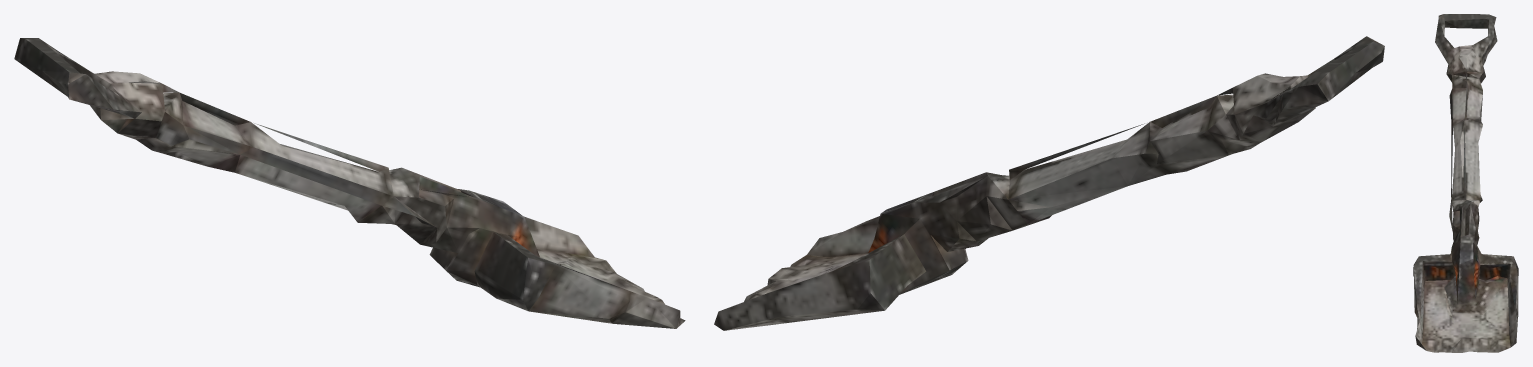
Rendered from prop.shovel.glb.
3 views of the same model, side by side, from view 1: azimuth 30°, elevation 25°; view 2: azimuth 150°, elevation 25°; view 3: azimuth 270°, elevation 25° (orthographic). The views are drawn at different scales.
Visible parts, largest first — view 1: body; view 2: body; view 3: body.
Boxes of the visible parts, bbox=[...] form: body: bbox=[14, 38, 685, 328]; body: bbox=[714, 36, 1384, 330]; body: bbox=[1413, 14, 1518, 352].
Size of the model in its own units: 0.4993 by 0.3031 by 0.1501.
Materials: 1 (1 with a texture image).
